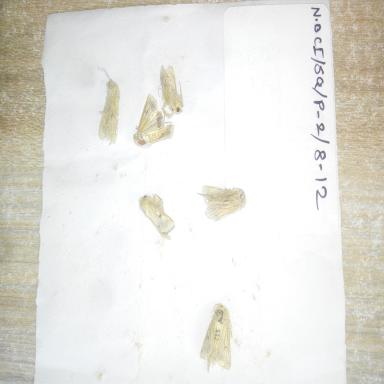abw: (195, 294, 241, 374), (130, 89, 178, 155), (194, 178, 254, 225), (134, 190, 180, 245), (95, 63, 124, 150), (157, 60, 190, 120)
